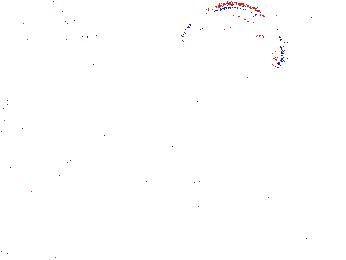moon jellyfish: (179, 3, 283, 82), (16, 37, 126, 103), (88, 18, 176, 58)
